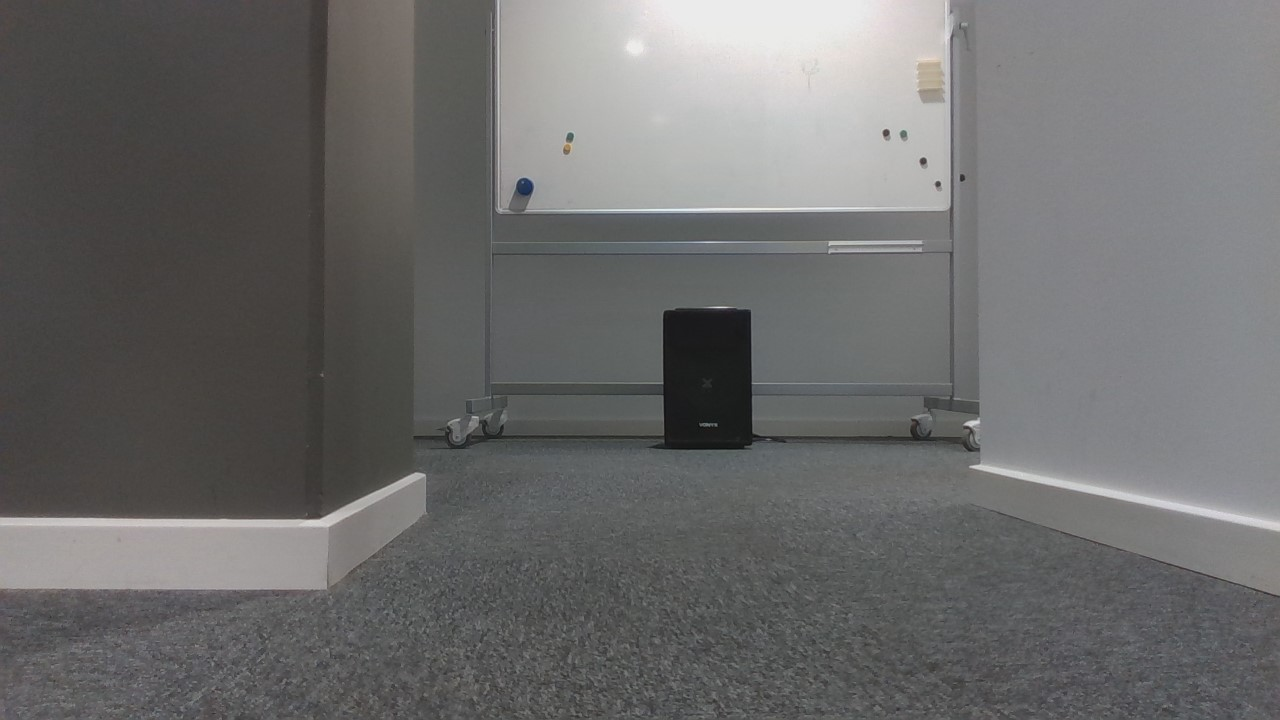alfa: (514, 174, 535, 198)
